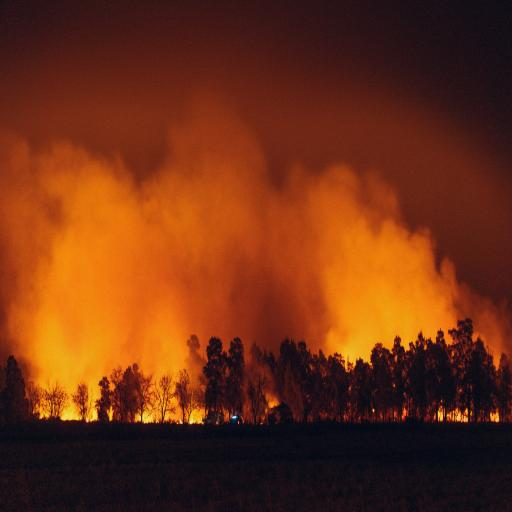wildfire: (3, 0, 512, 503)
